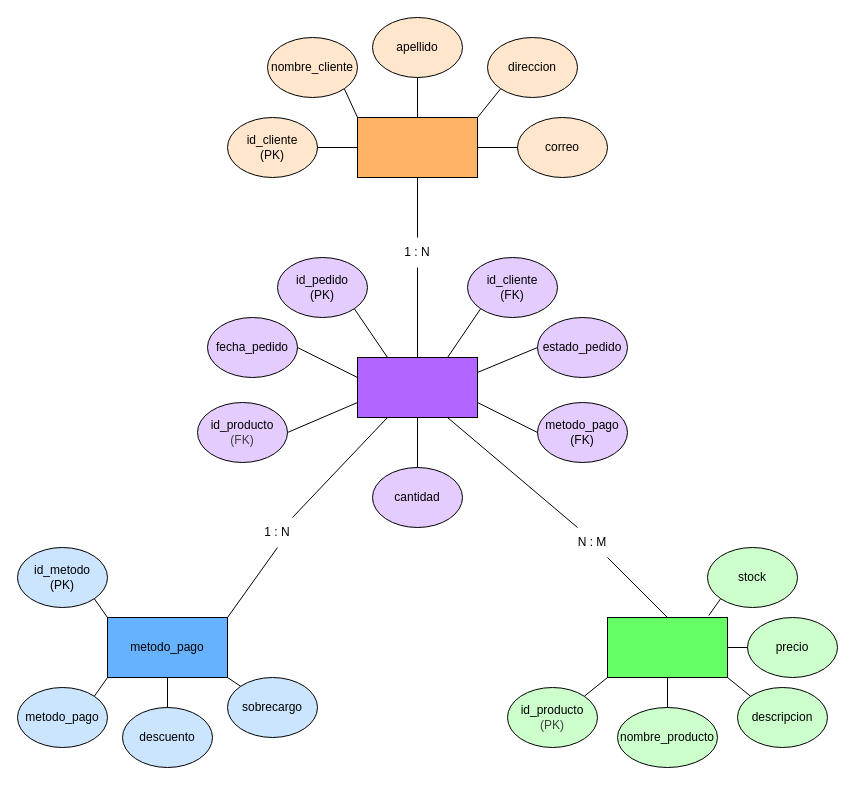
Image size: 855x785. Some labels were removed from this diagram. Each missing label, with the centre of its shape:
"cliente" belongs at (417,147).
"pedido" belongs at (417,387).
"producto" belongs at (667,647).
